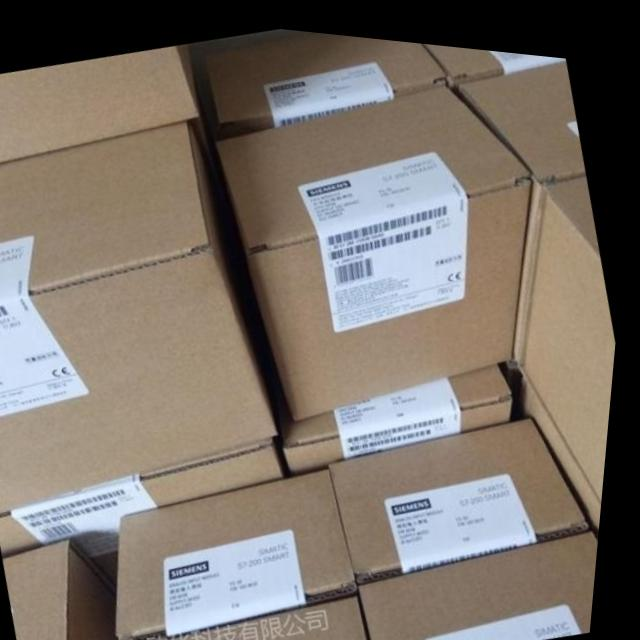box: (0, 117, 287, 512), (218, 75, 533, 415), (336, 405, 600, 577), (127, 461, 367, 640), (4, 432, 291, 581), (458, 48, 588, 354), (268, 340, 520, 468), (366, 514, 607, 640), (529, 161, 621, 490), (203, 26, 449, 132), (0, 40, 201, 164), (518, 362, 609, 524), (139, 586, 381, 640), (14, 535, 127, 640), (423, 35, 565, 74)
